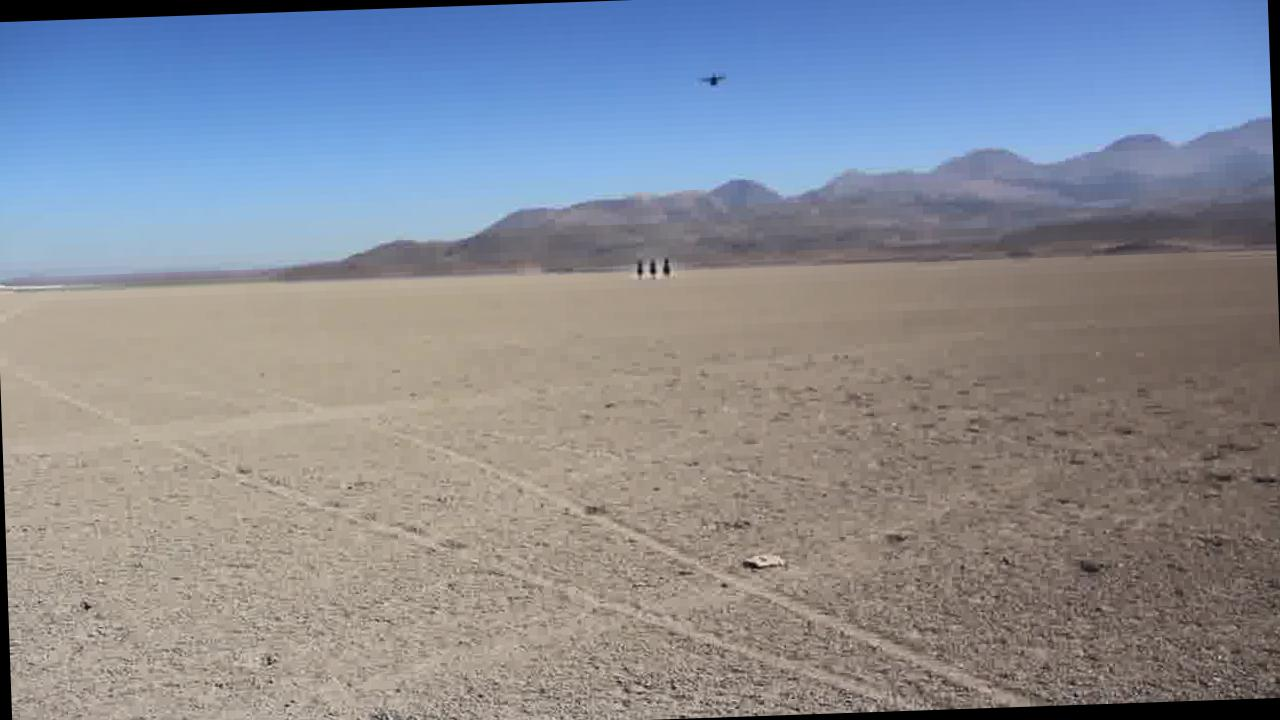drone: (696, 68, 730, 90)
